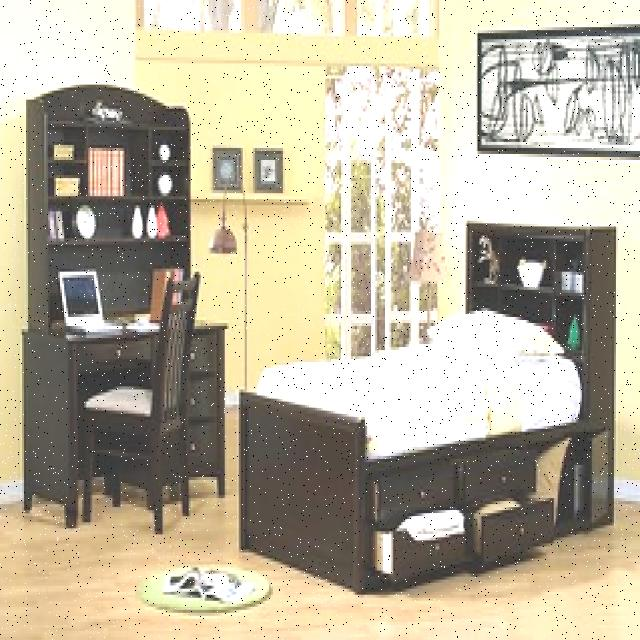bed: (255, 304, 596, 550)
